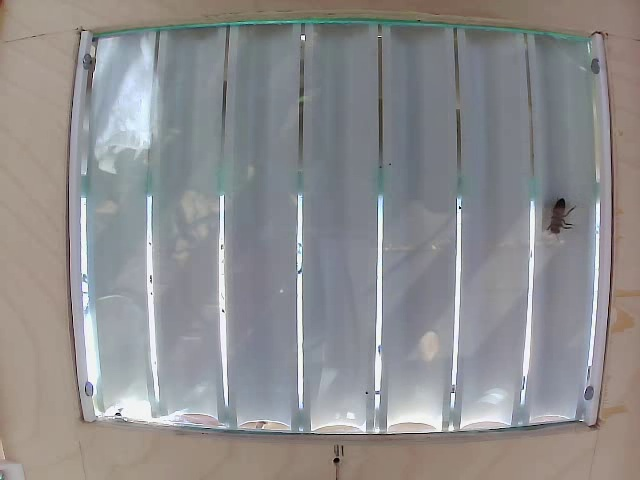bee: (545, 192, 583, 253)
